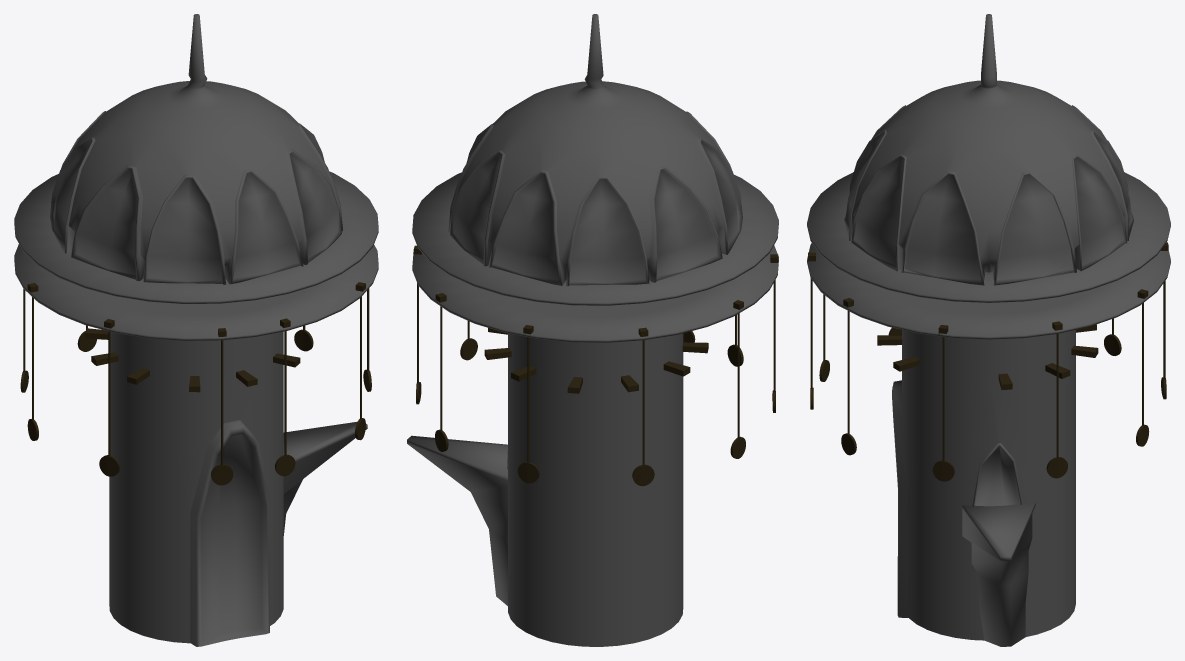
Rendered from Tower.fbx.
The picture shows the model from 3 angles, left to right: view 1: azimuth 30°, elevation 25°; view 2: azimuth 150°, elevation 25°; view 3: azimuth 270°, elevation 25°; orthographic projection.
Visible parts, largest first — view 1: Cylinder.004, Sphere, Sphere.002, Sphere.001, Cylinder, Cube; view 2: Cylinder.004, Sphere, Sphere.002, Sphere.001, Cylinder, Cube; view 3: Cylinder.004, Sphere, Sphere.002, Sphere.001, Cylinder, Cube.
Part boxes in pixels (box(x1,y1,x2,y2)): Cylinder.004: box(109, 331, 367, 646); Sphere: box(50, 14, 342, 284); Sphere.002: box(14, 244, 378, 340); Sphere.001: box(14, 171, 378, 303); Cylinder: box(20, 282, 371, 485); Cube: box(85, 328, 300, 392); Cylinder.004: box(407, 333, 683, 646); Sphere: box(448, 14, 742, 286); Sphere.002: box(412, 245, 778, 342); Sphere.001: box(412, 172, 778, 305); Cylinder: box(413, 245, 778, 486); Cube: box(484, 328, 708, 393); Cylinder.004: box(892, 272, 1075, 646); Sphere: box(844, 14, 1133, 285); Sphere.002: box(807, 243, 1170, 339); Sphere.001: box(807, 172, 1170, 302); Cylinder: box(808, 242, 1168, 481); Cube: box(877, 324, 1098, 390).
Size of the model in its own units: 3469 by 5845 by 3273.
